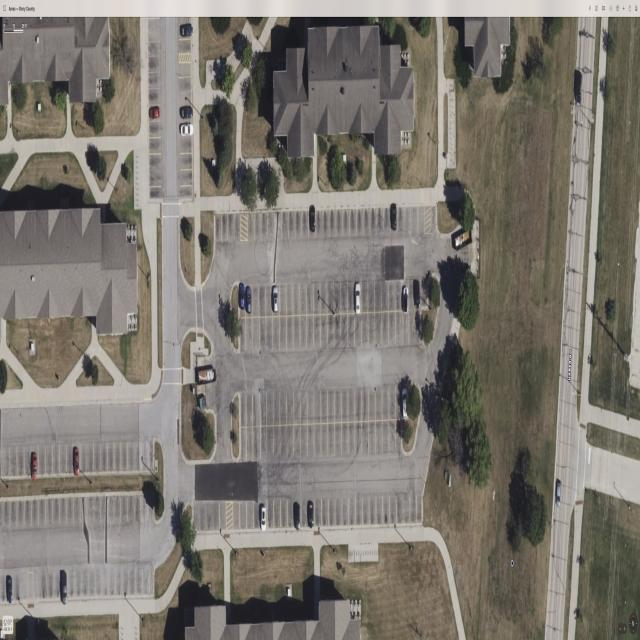Empty: (368, 421, 376, 455), (382, 421, 390, 454), (382, 388, 390, 420), (320, 498, 328, 526), (328, 498, 336, 526), (334, 498, 342, 526), (348, 498, 356, 526), (376, 496, 384, 524), (149, 137, 162, 154), (314, 499, 322, 526), (280, 501, 288, 527), (368, 497, 376, 523), (362, 497, 370, 523), (148, 73, 160, 90), (149, 154, 161, 171), (180, 153, 192, 170), (376, 421, 382, 455), (179, 77, 191, 93), (362, 422, 368, 454), (149, 56, 160, 73), (267, 502, 274, 528), (179, 63, 191, 78), (149, 187, 162, 200), (342, 498, 348, 526), (356, 498, 362, 526)
Parked: (272, 285, 280, 316), (239, 284, 246, 318), (179, 23, 192, 41), (390, 206, 398, 235), (354, 280, 361, 313), (294, 501, 302, 529), (148, 105, 161, 122), (245, 286, 252, 317), (307, 500, 315, 527), (179, 107, 192, 123), (309, 209, 316, 237), (261, 502, 267, 531)
